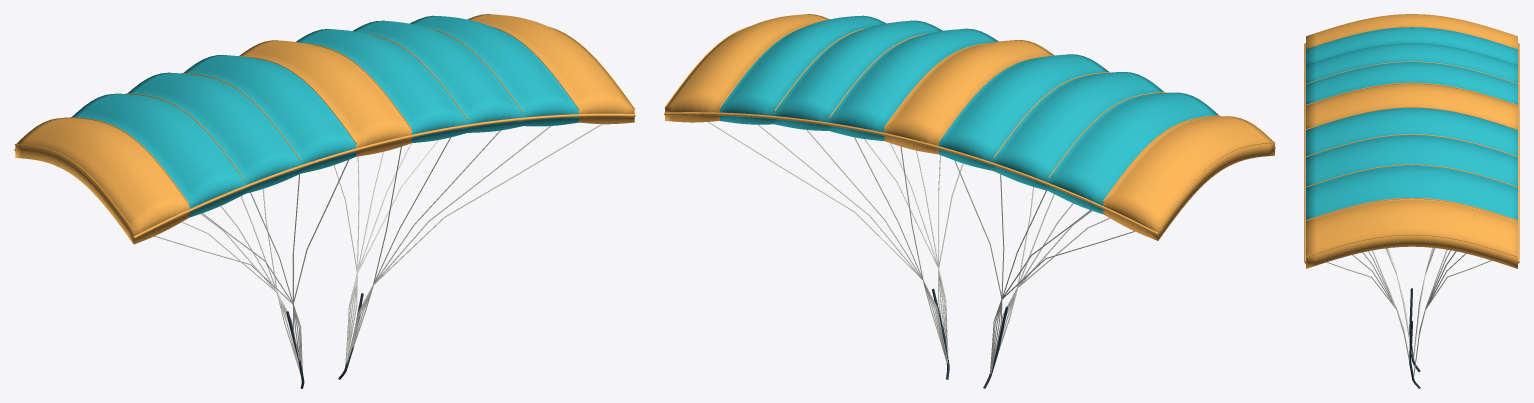
The model's file is parachute-canopy.glb.
3 views of the same model, side by side, from view 1: azimuth 30°, elevation 25°; view 2: azimuth 150°, elevation 25°; view 3: azimuth 270°, elevation 25° (orthographic). The views are drawn at different scales.
Visible parts, largest first — view 1: parachute_canopy; view 2: parachute_canopy; view 3: parachute_canopy.
Boxes of the visible parts, left/top/right/bottom form: parachute_canopy: left=14, top=14, right=635, bottom=388; parachute_canopy: left=664, top=14, right=1275, bottom=388; parachute_canopy: left=1304, top=14, right=1519, bottom=388.
Size of the model in its own units: 4.01 by 2.5 by 1.67.
